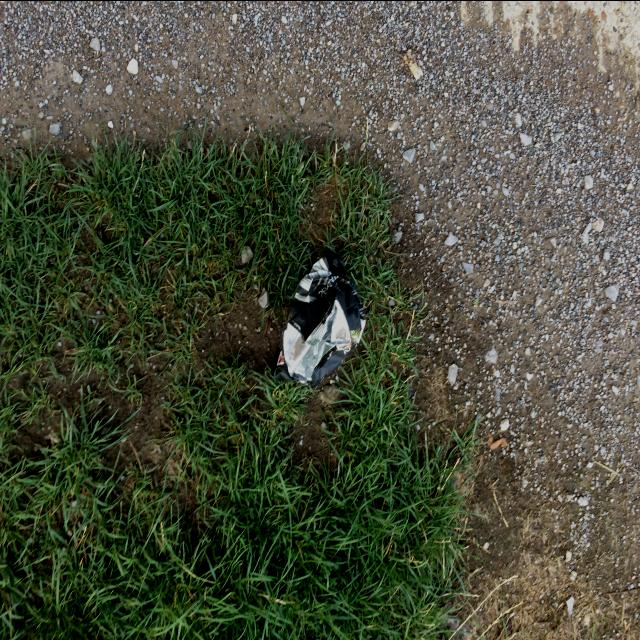Crisp packet: (271, 250, 366, 387)
